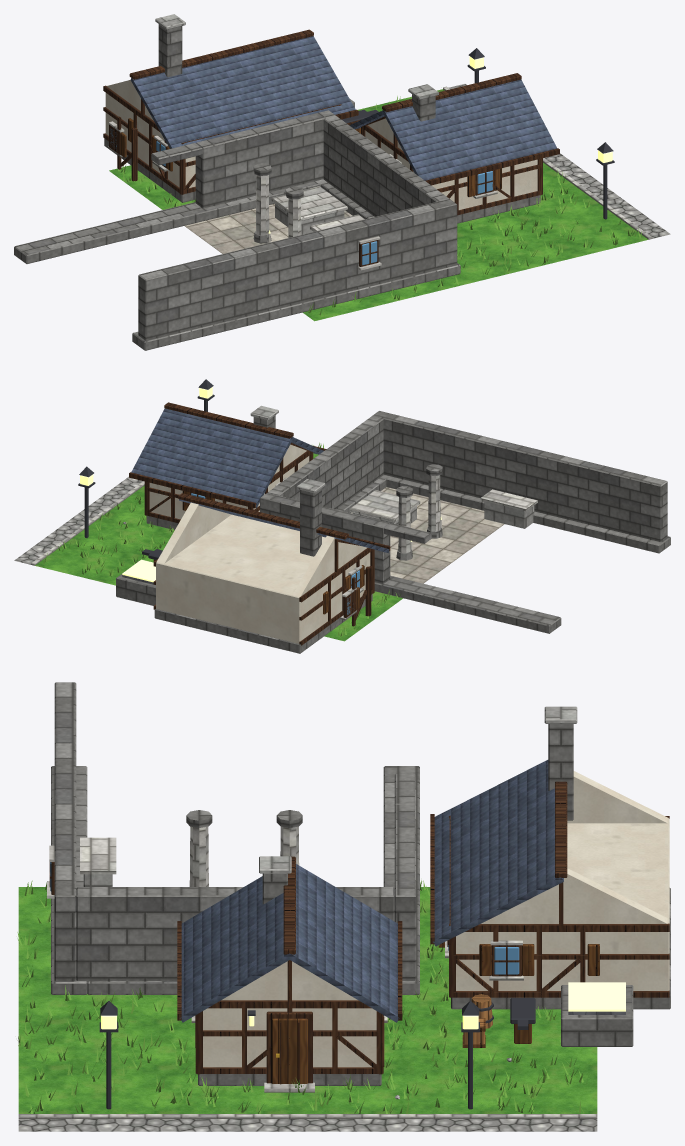
Rendered from chunk_5_6.glb.
The picture shows the model from 3 angles, top to bottom: view 1: azimuth 30°, elevation 25°; view 2: azimuth 150°, elevation 25°; view 3: azimuth 270°, elevation 25°; orthographic projection. The views are drawn at different scales.
Visible parts, largest first — view 1: chunk_5_6; view 2: chunk_5_6; view 3: chunk_5_6.
Part boxes in pixels (<box>): chunk_5_6: <box>14,14,670,350</box>; chunk_5_6: <box>14,379,670,653</box>; chunk_5_6: <box>17,682,670,1131</box>.
Bounding box in the file's own units: 23.1 × 6.37 × 18.17.
18 materials, 12 textured.
